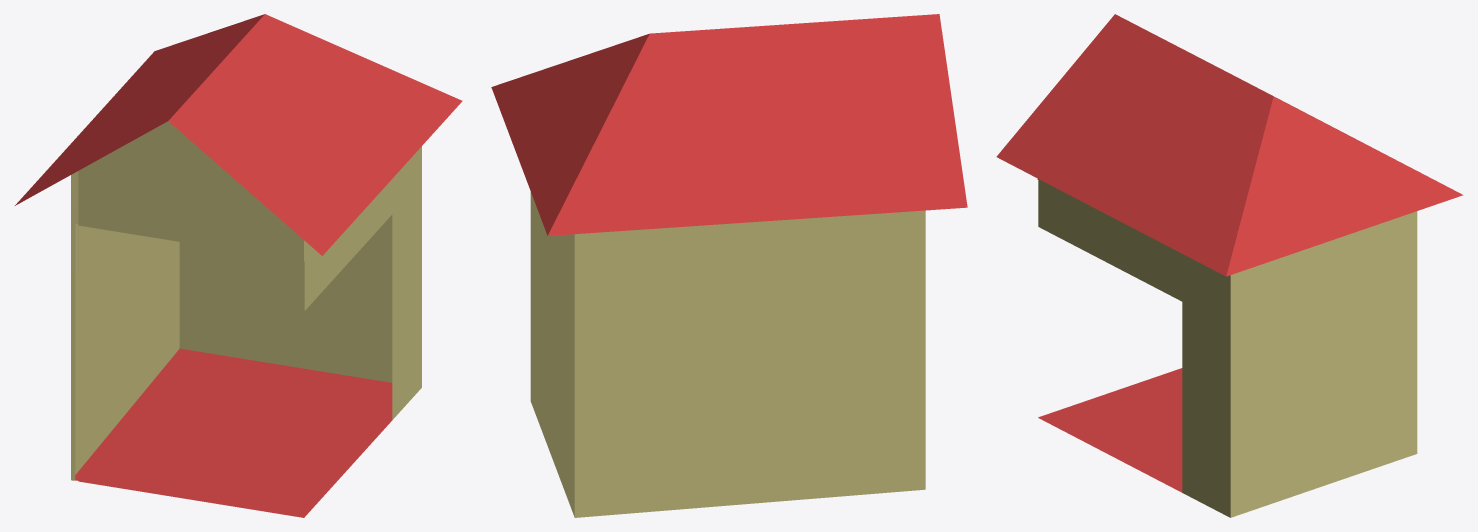
The picture shows the model from 3 angles, left to right: view 1: azimuth 30°, elevation 25°; view 2: azimuth 150°, elevation 25°; view 3: azimuth 270°, elevation 25°; orthographic projection. The views are drawn at different scales.
Size of the model in its own units: 16.21 by 15.92 by 13.57.
